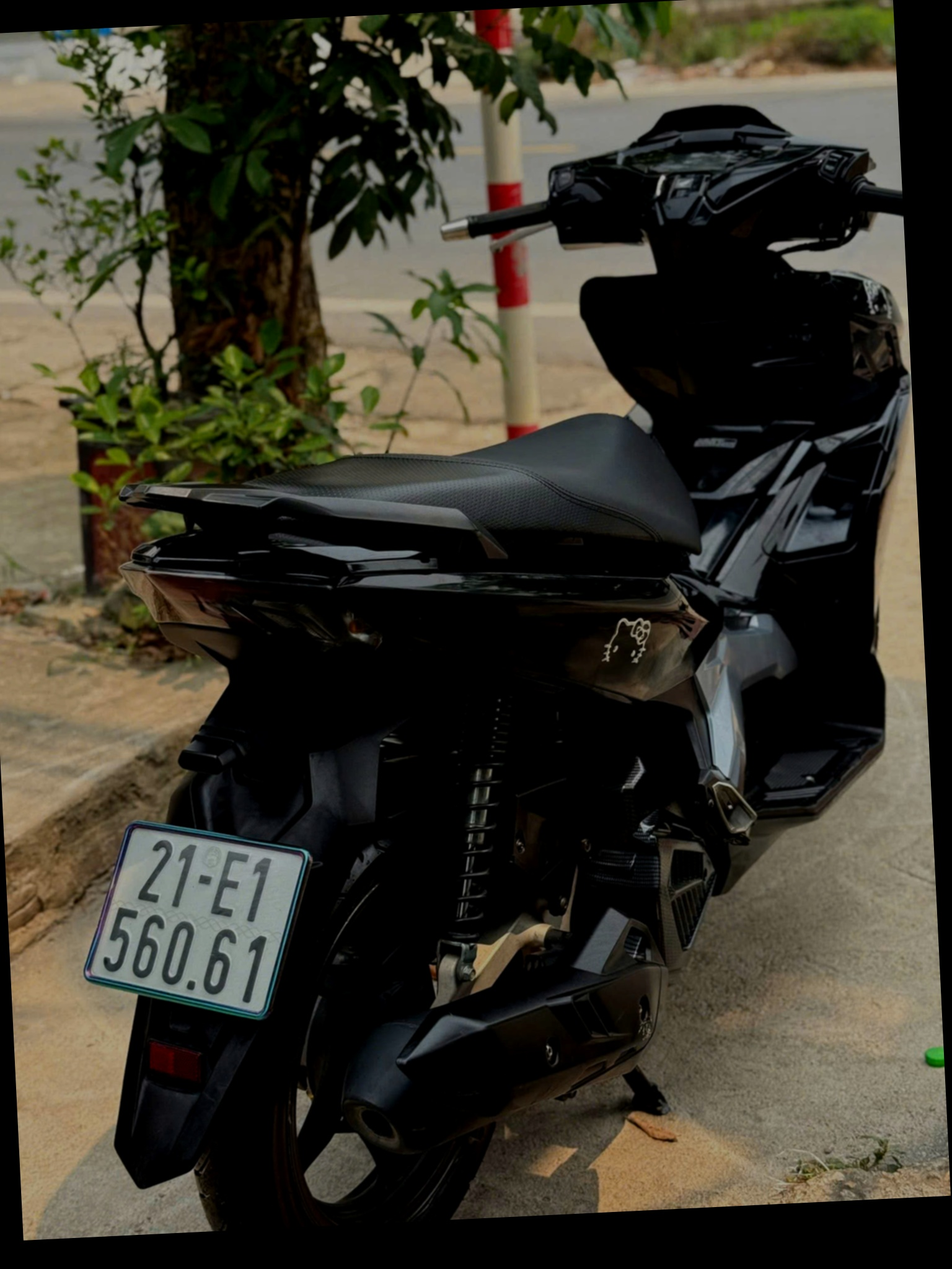Bien-so: (95, 833, 345, 1066)
